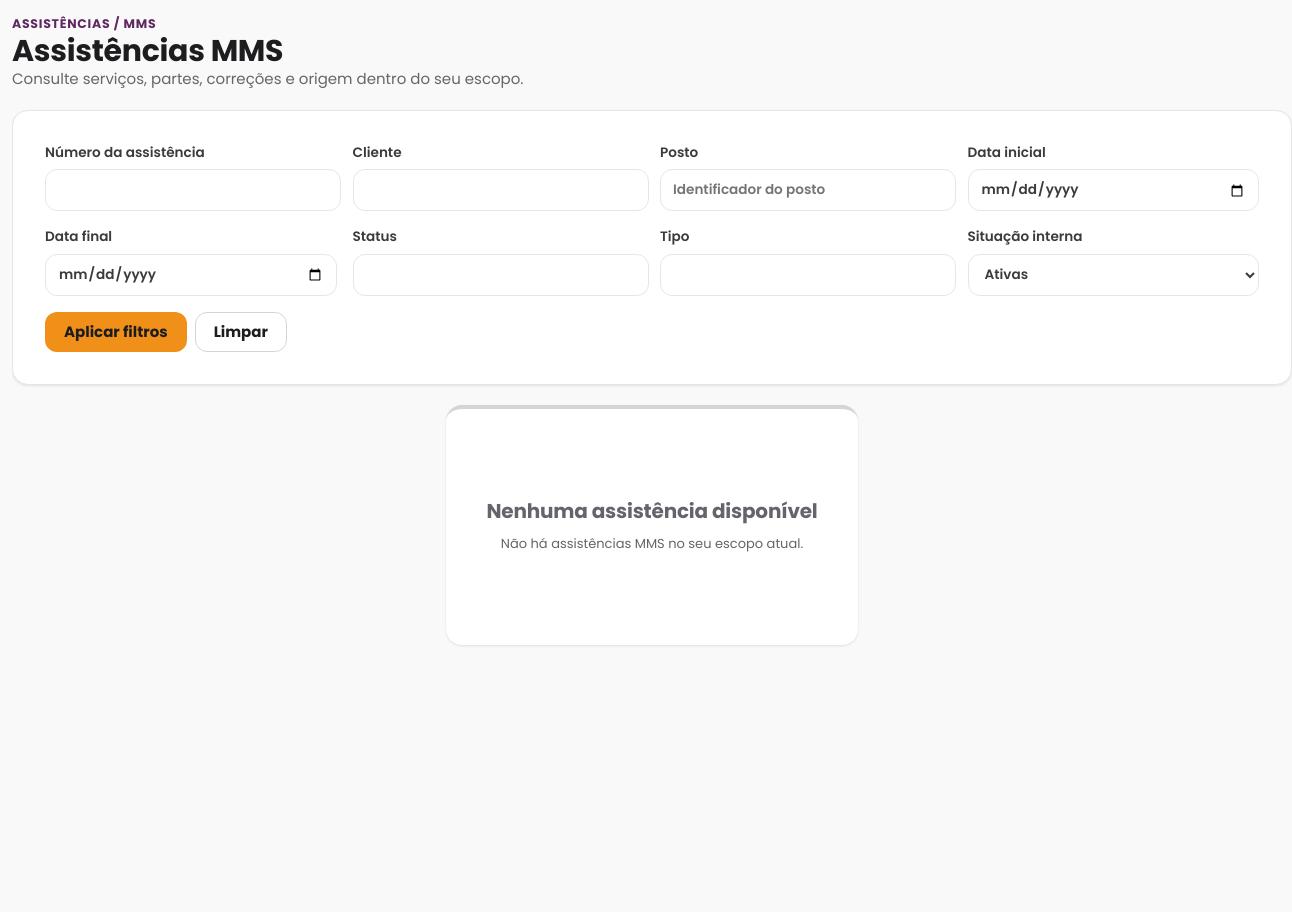
Test: assistance list › distinguishes the empty scope from filtered no-results
Expected: the heading "Nenhuma assistência disponível" is shown, x1=486 y1=500 x2=818 y2=522
Type "008" into the field labelled "Número da assistência" at x=193, y=190, box x1=45 y1=169 x2=341 y2=211
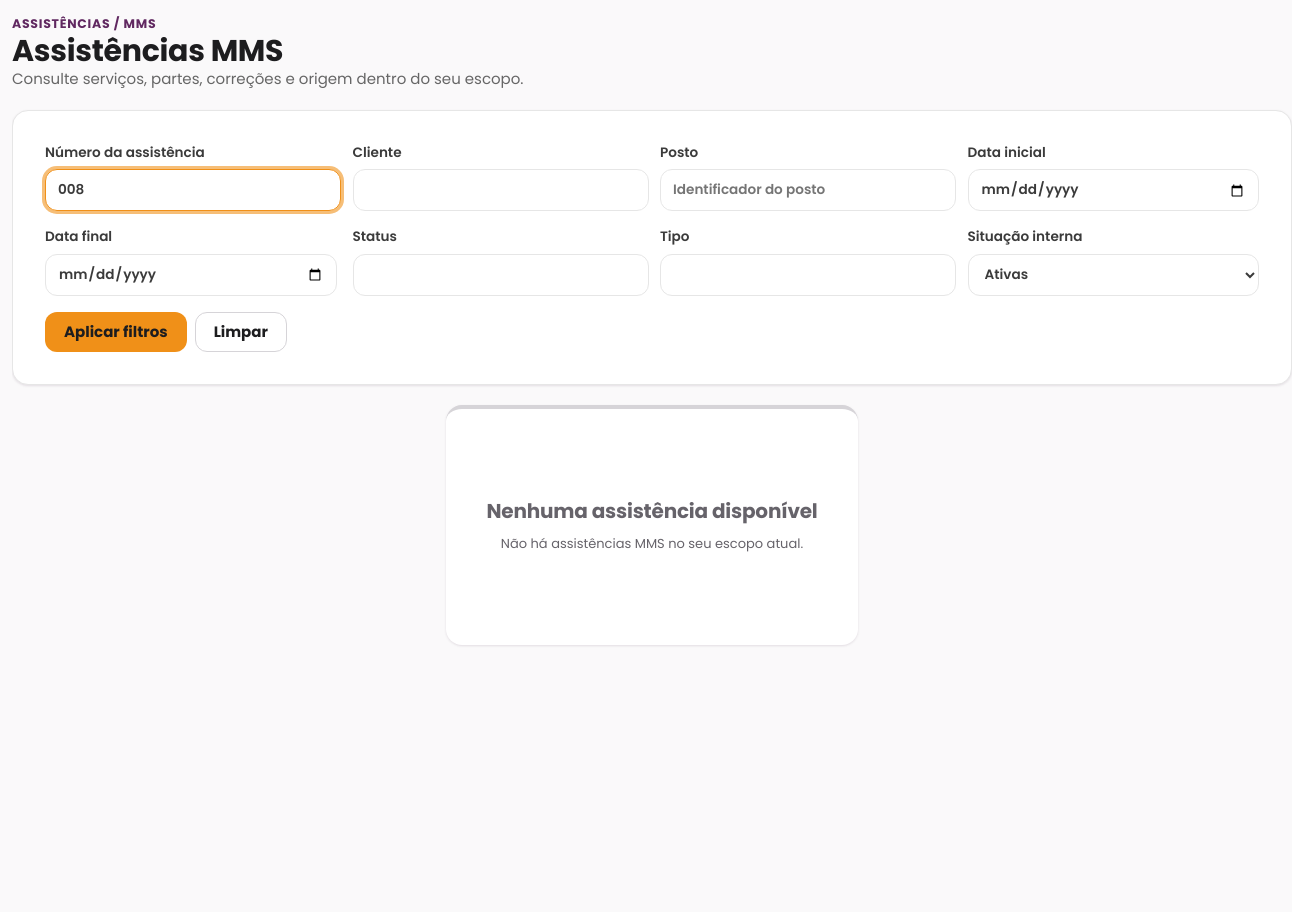
Click the button "Aplicar filtros" at x=116, y=332, box x1=45 y1=312 x2=187 y2=352
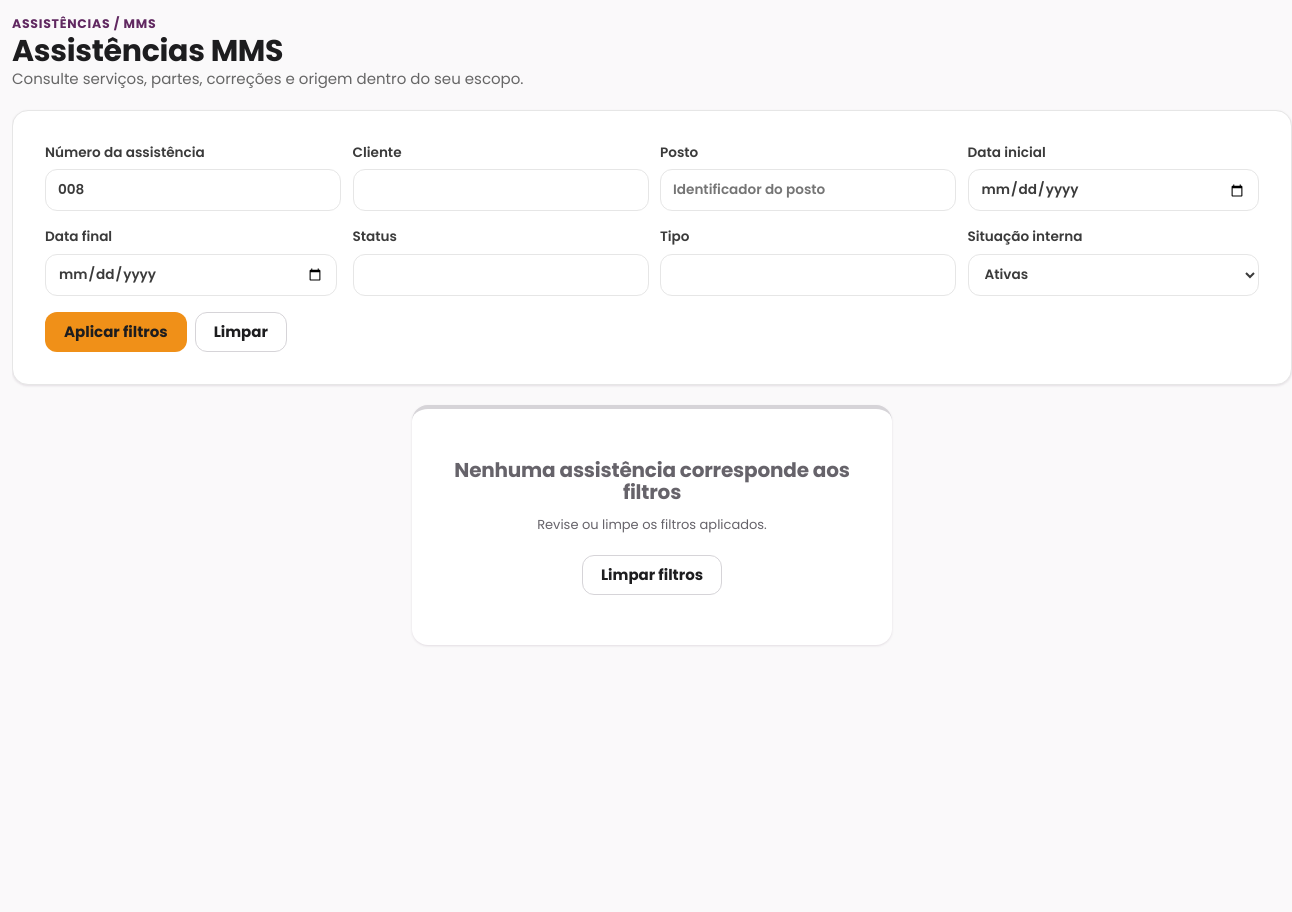
Expected: the heading "Nenhuma assistência corresponde aos filtros" is shown, x1=452 y1=459 x2=852 y2=503
